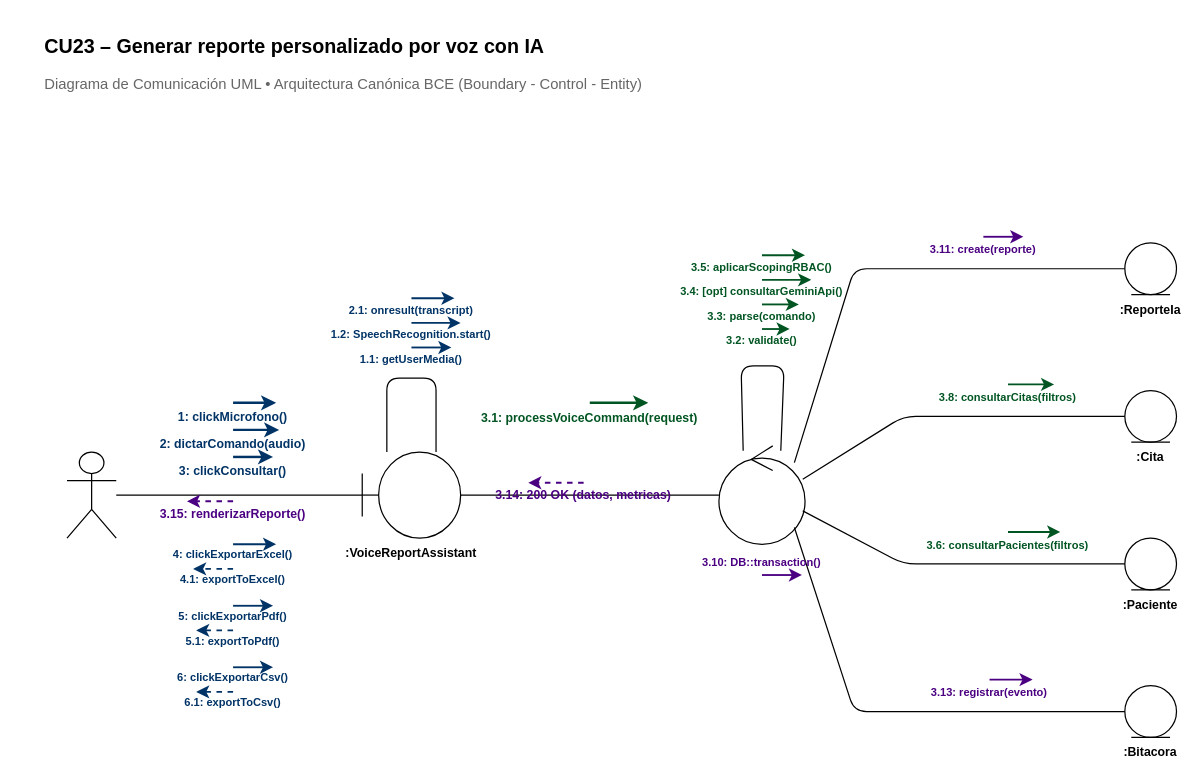
Image size: 1202x781. Some labels were removed from this diagram. Each missing label, with the centre of its shape:
":Administrador / Médico" goes at point 91,494.
":VoiceReportController" goes at point 761,494.
